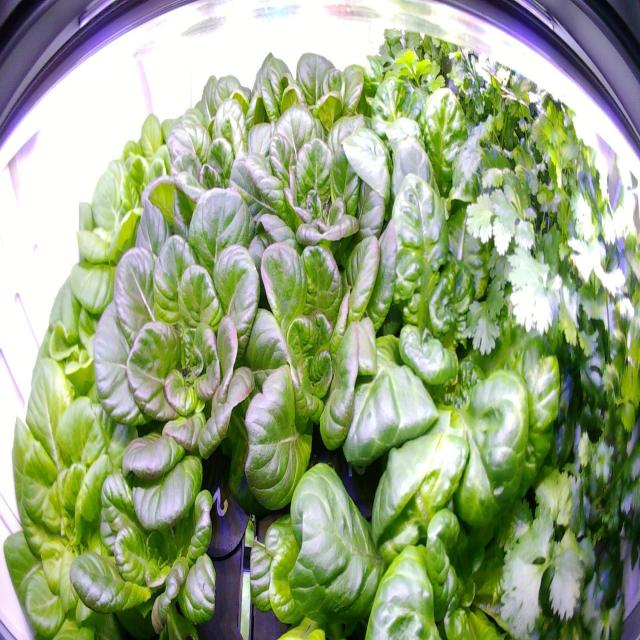Ready: (247, 298, 557, 639), (86, 173, 314, 535), (222, 208, 437, 520), (340, 153, 543, 436), (0, 348, 184, 639), (1, 240, 160, 468), (229, 106, 400, 316), (146, 88, 295, 324), (55, 144, 204, 346), (152, 46, 282, 222), (262, 33, 390, 181), (104, 94, 213, 244)
young: (70, 444, 224, 637)
